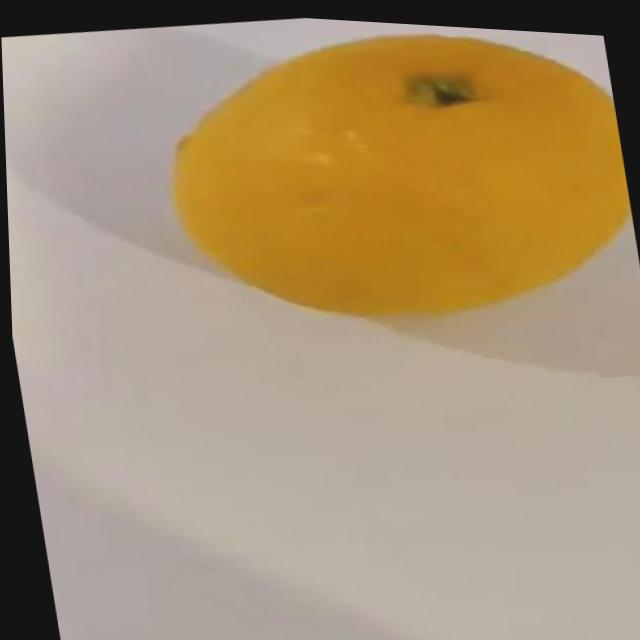Orange: (148, 7, 640, 354)
